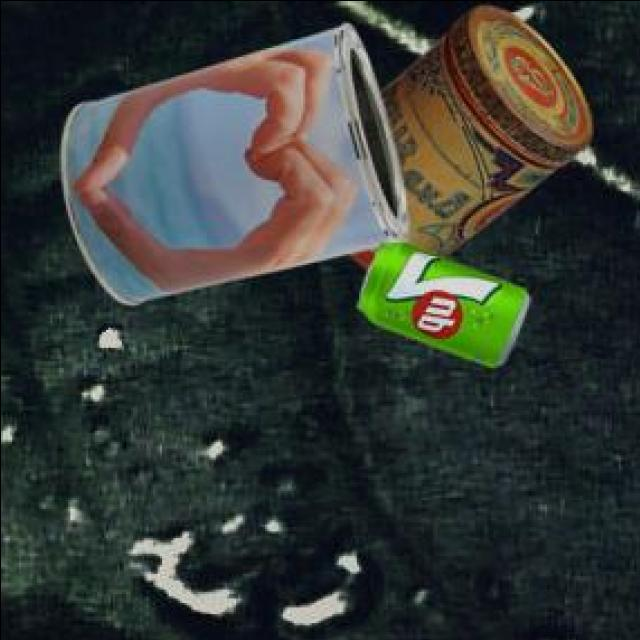logam: (57, 26, 402, 308), (341, 8, 587, 274), (355, 245, 525, 370)
